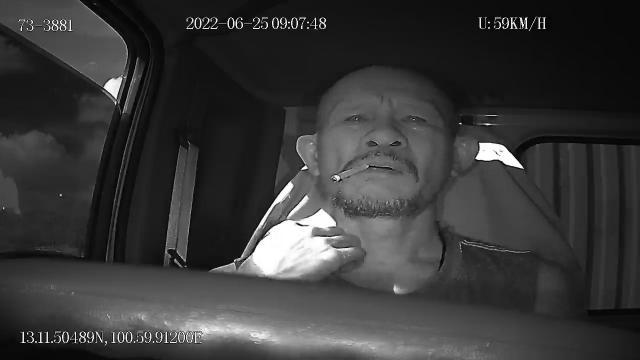SafeDriving: (394, 104, 436, 134), (336, 102, 378, 131)
Smoking: (331, 162, 369, 184)
